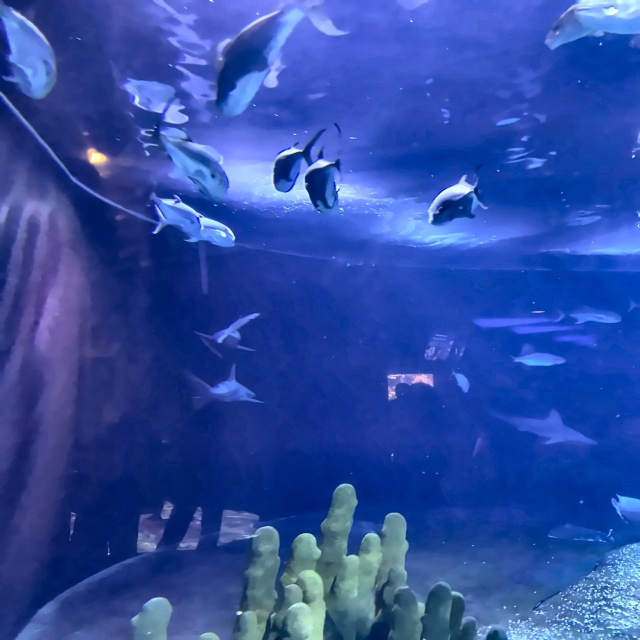fish: (209, 0, 349, 119), (0, 0, 60, 98), (155, 129, 230, 200), (272, 122, 330, 193), (427, 171, 495, 227), (197, 304, 271, 355), (545, 0, 623, 48), (147, 188, 202, 236), (304, 147, 342, 214), (183, 212, 236, 250), (502, 350, 572, 368), (613, 495, 639, 521)
shark: (490, 405, 600, 448), (185, 361, 267, 408), (555, 303, 622, 327)
stingray: (549, 524, 613, 543)
